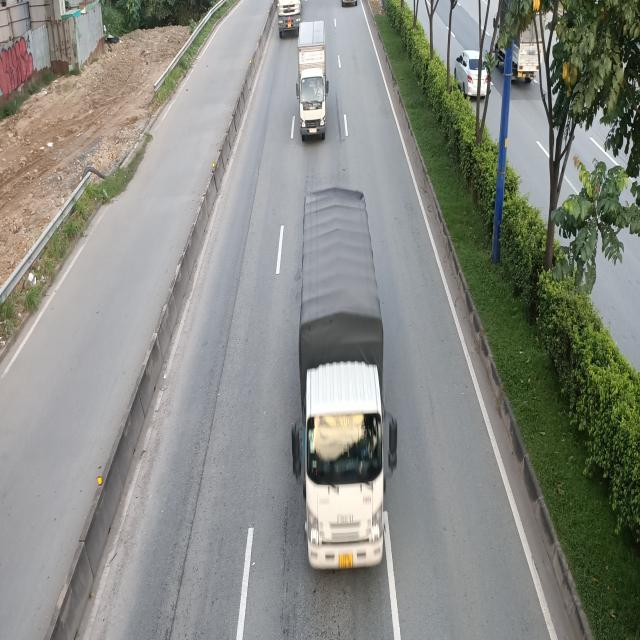truck: (289, 193, 396, 575), (295, 20, 328, 142)
